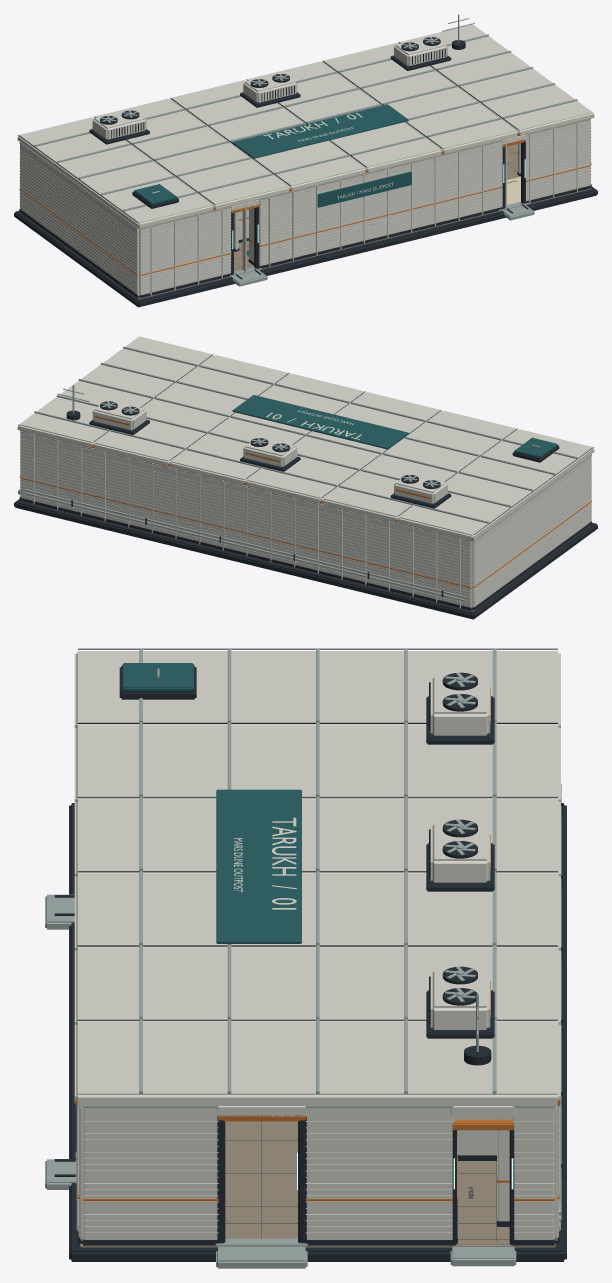
File: architecture.glb
3 renders of one model, top to bottom at view 1: azimuth 30°, elevation 25°; view 2: azimuth 150°, elevation 25°; view 3: azimuth 270°, elevation 25°, orthographic. The views are drawn at different scales.
Visible parts, largest first — view 1: Partition_03, Roof section 01, Roof section 05, Roof section 02, Roof section 06, Partition_01, Roof section 03, Roof section 04, Partition_02, Foundation, Partition_04, Roof identity plate (+10 smaller); view 2: Partition_00, Roof section 01, Roof section 05, Roof section 02, Roof section 06, Partition_01, Roof section 03, Roof section 04, Foundation, Roof identity plate, Partition_00_trim, North service conduit (+26 smaller); view 3: Roof section 06, Roof section 02, Roof section 05, Roof section 01, Roof section 04, Roof section 03, Partition_06, Partition_07, Interior floor, Roof identity plate, Foundation, Partition_05 (+22 smaller).
Part boxes in pixels (x1,y1,x2,y2): Partition_03: [259, 141, 502, 265]; Roof section 01: [18, 117, 213, 228]; Roof section 05: [322, 43, 517, 154]; Roof section 02: [94, 98, 289, 210]; Roof section 06: [398, 24, 593, 136]; Partition_01: [20, 144, 139, 295]; Roof section 03: [170, 80, 365, 191]; Roof section 04: [246, 61, 441, 173]; Partition_02: [139, 208, 230, 295]; Foundation: [14, 186, 597, 307]; Partition_04: [526, 120, 590, 201]; Roof identity plate: [232, 104, 408, 158]; Partition_00: [21, 432, 472, 608]; Roof section 01: [398, 429, 593, 540]; Roof section 05: [94, 355, 289, 466]; Roof section 02: [322, 410, 517, 522]; Roof section 06: [18, 336, 213, 448]; Partition_01: [472, 456, 591, 607]; Roof section 03: [246, 392, 441, 503]; Roof section 04: [170, 373, 365, 485]; Foundation: [14, 499, 597, 619]; Roof identity plate: [232, 395, 408, 449]; Partition_00_trim: [20, 498, 472, 610]; North service conduit: [25, 492, 465, 601]; Roof section 06: [74, 1022, 560, 1105]; Roof section 02: [74, 725, 560, 801]; Roof section 05: [74, 948, 560, 1024]; Roof section 01: [74, 651, 560, 727]; Roof section 04: [74, 873, 560, 950]; Roof section 03: [74, 799, 560, 876]; Partition_06: [306, 1108, 453, 1239]; Partition_07: [83, 1108, 217, 1239]; Interior floor: [80, 1121, 555, 1247]; Roof identity plate: [216, 789, 301, 943]; Foundation: [69, 803, 566, 1261]; Partition_05: [512, 1108, 554, 1239].
Bounding box in the file's own units: 19.11 × 4.47 × 9.15.
